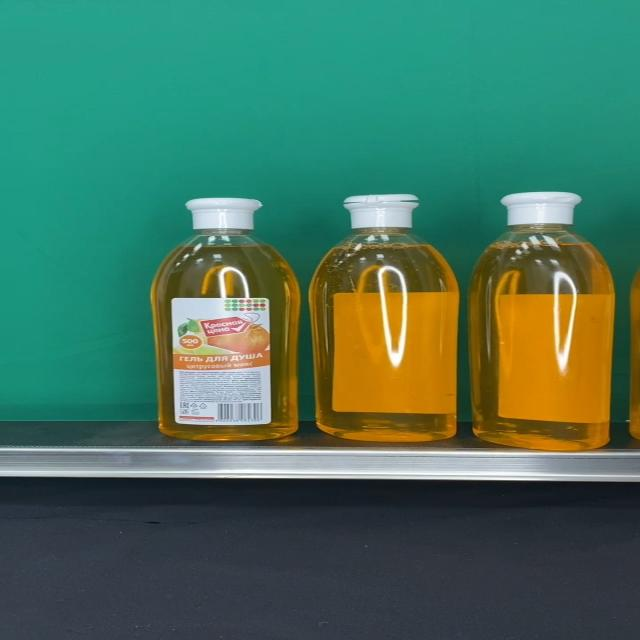Bottle: (468, 192, 616, 449), (310, 194, 460, 442), (150, 198, 300, 440)
Cap: (500, 192, 582, 227), (185, 198, 263, 232), (342, 194, 419, 228)
